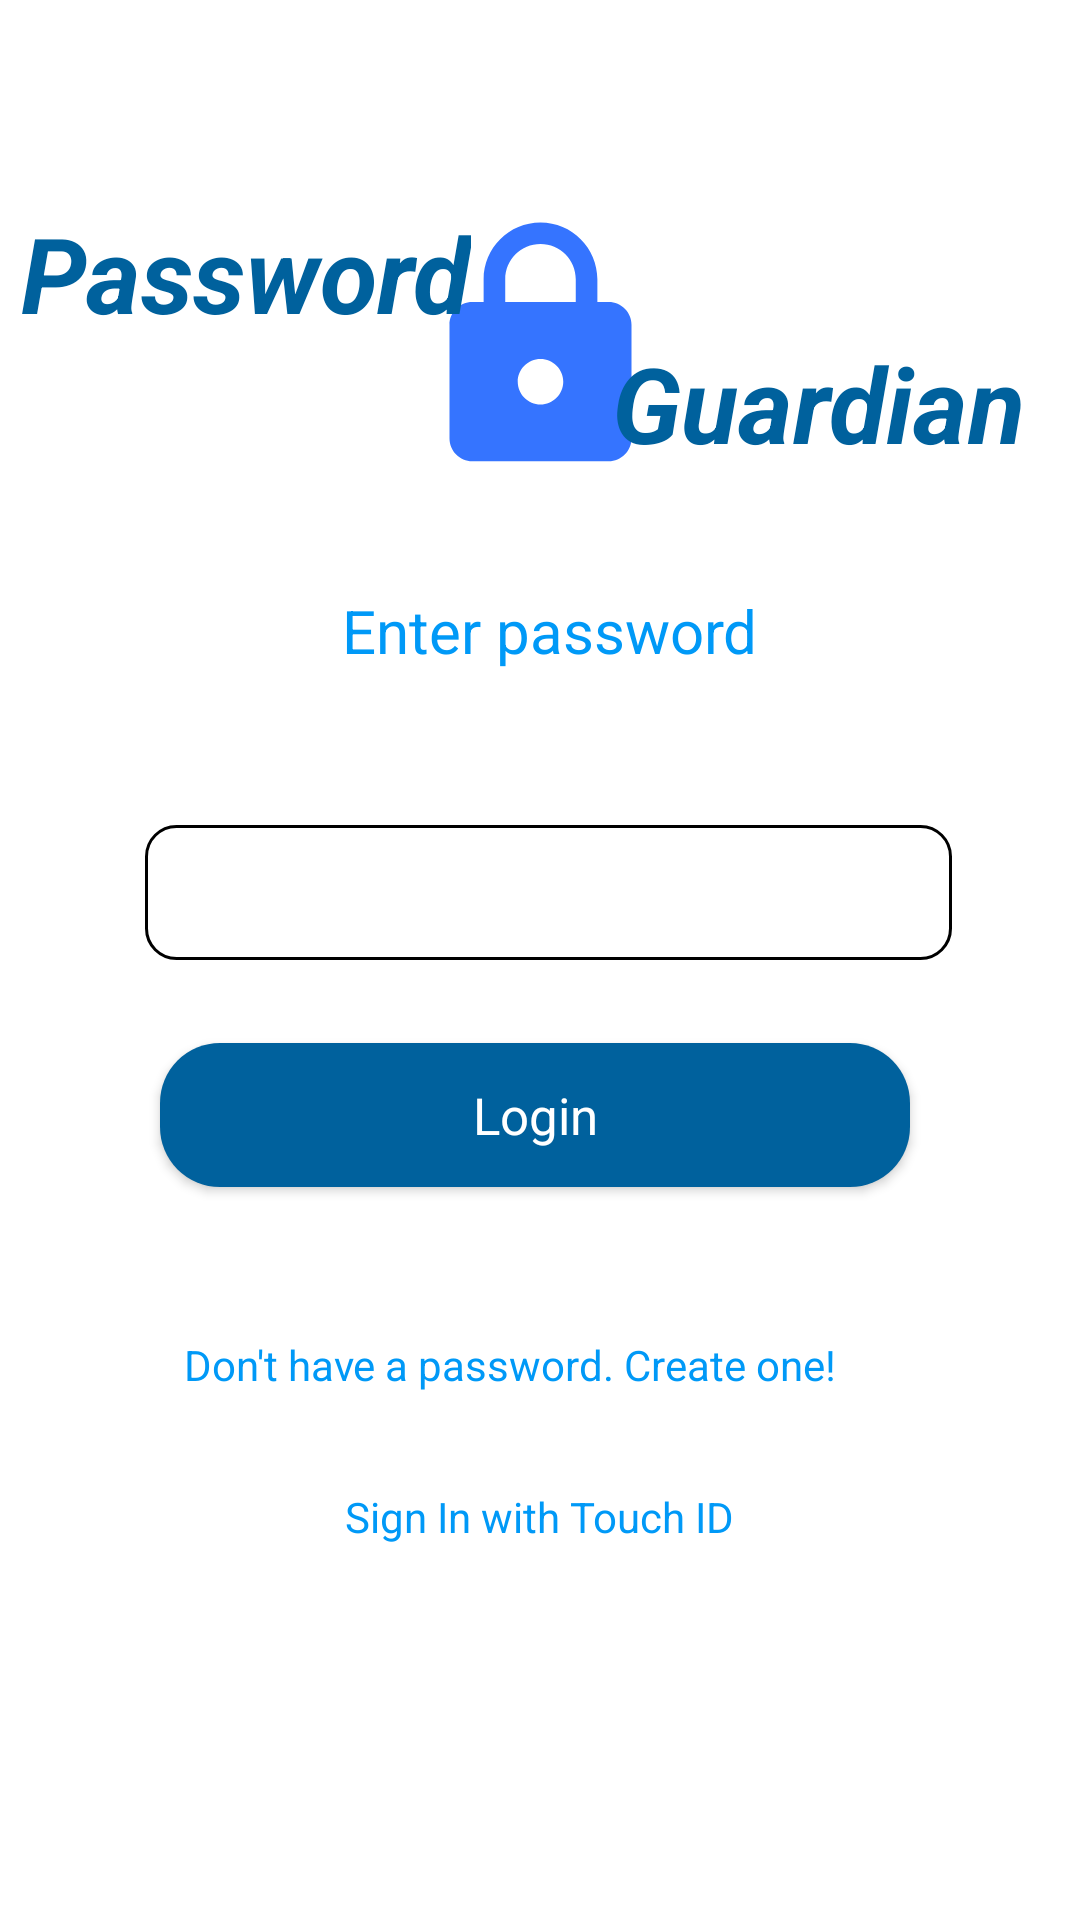

Icons on this 1080px x 1920px Android screen, each with its box as (x1, y1, x2, y2):
lock: (415, 222, 677, 462)
